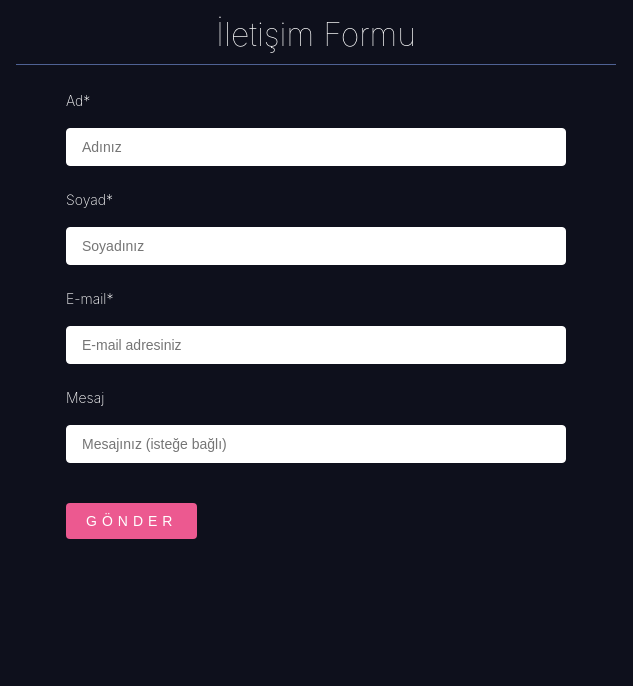
Test: [9] form gönderildiğinde girilen tüm değerler render ediliyor.
Step 1. Type "Şevval" into the field with test id "name-input" → (316, 147), box [66, 128, 566, 166]
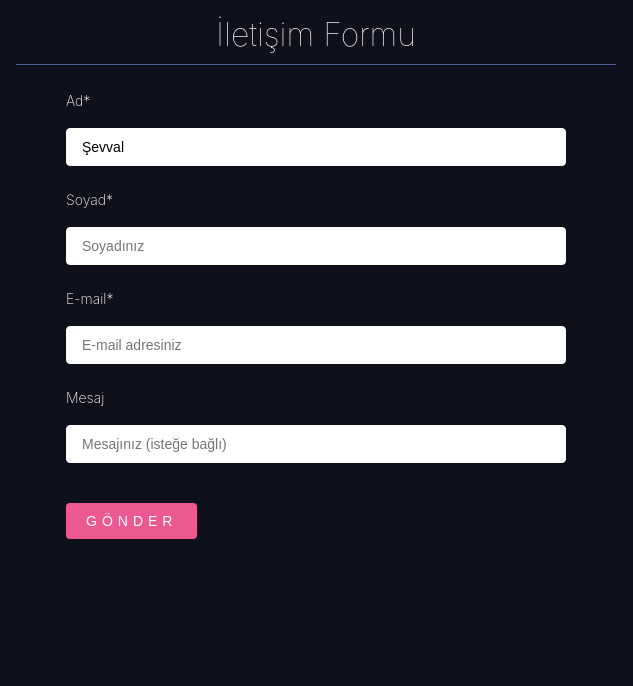
Step 2. Type "Aksoy" into the field with test id "lastName-input" → (316, 246), box [66, 227, 566, 265]
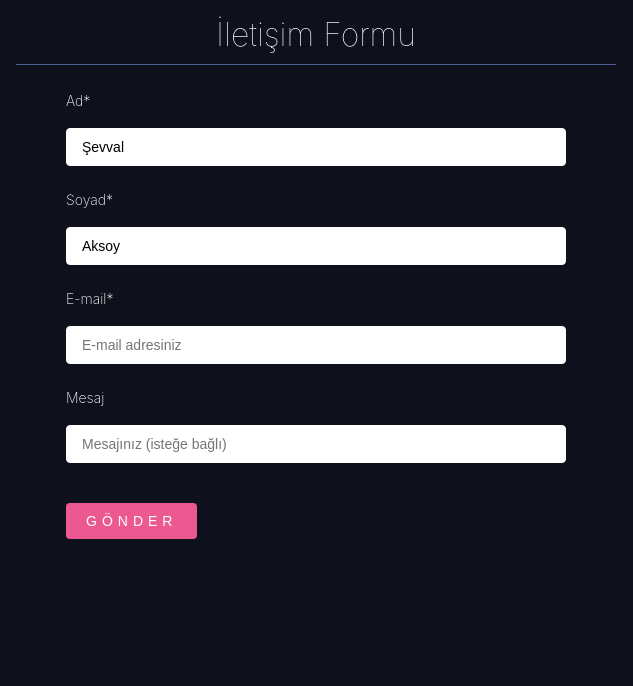
Step 3. Type "sevvala17@gmail.com" into the field with test id "email-input" → (316, 345), box [66, 326, 566, 364]
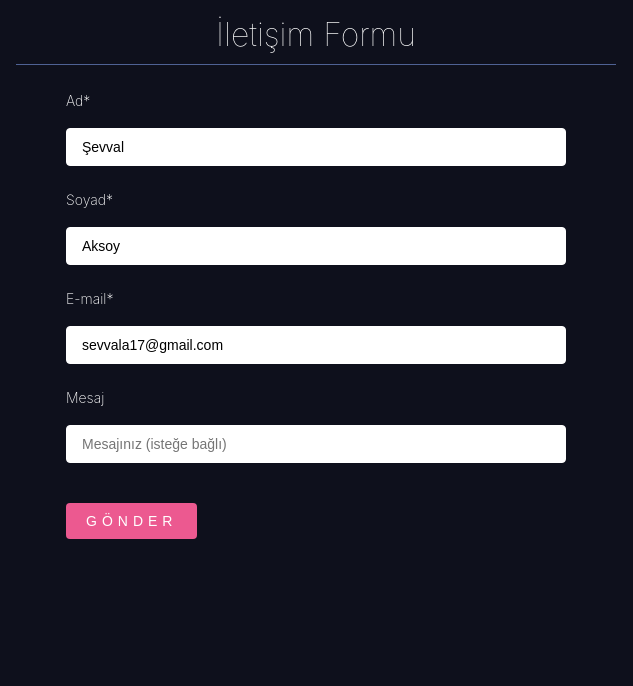
Step 4. Click the button with test id "submit-button" → click(132, 521), box [66, 503, 198, 539]
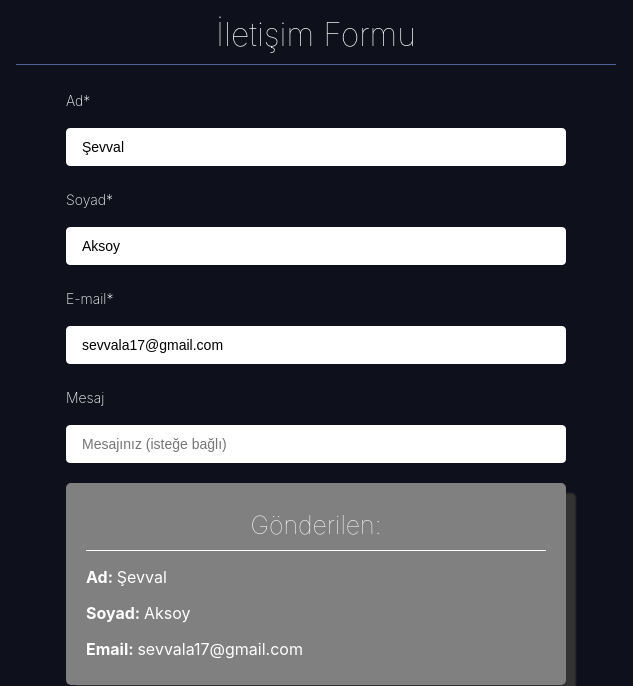
Now the text "Şevval" is shown, box [117, 567, 167, 587]
Now the text "Aksoy" is shown, box [144, 603, 190, 623]
Now the text "sevvala17@gmail.com" is shown, box [137, 639, 303, 659]
